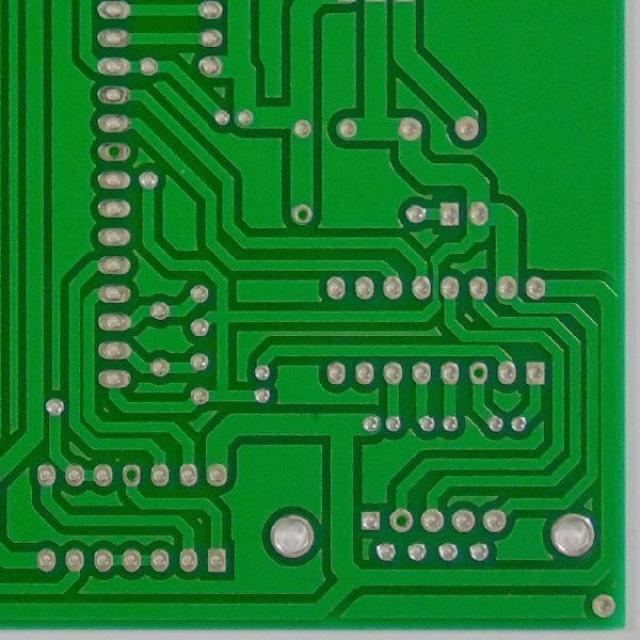Missing_Hole: (95, 142, 132, 163), (118, 463, 144, 488), (290, 202, 314, 226), (390, 508, 412, 534), (466, 361, 486, 388)
